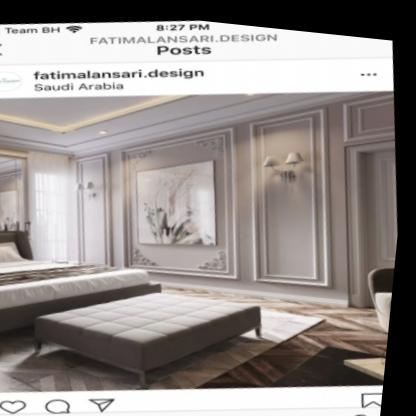Futec frame: (106, 108, 257, 291), (231, 88, 361, 296)
